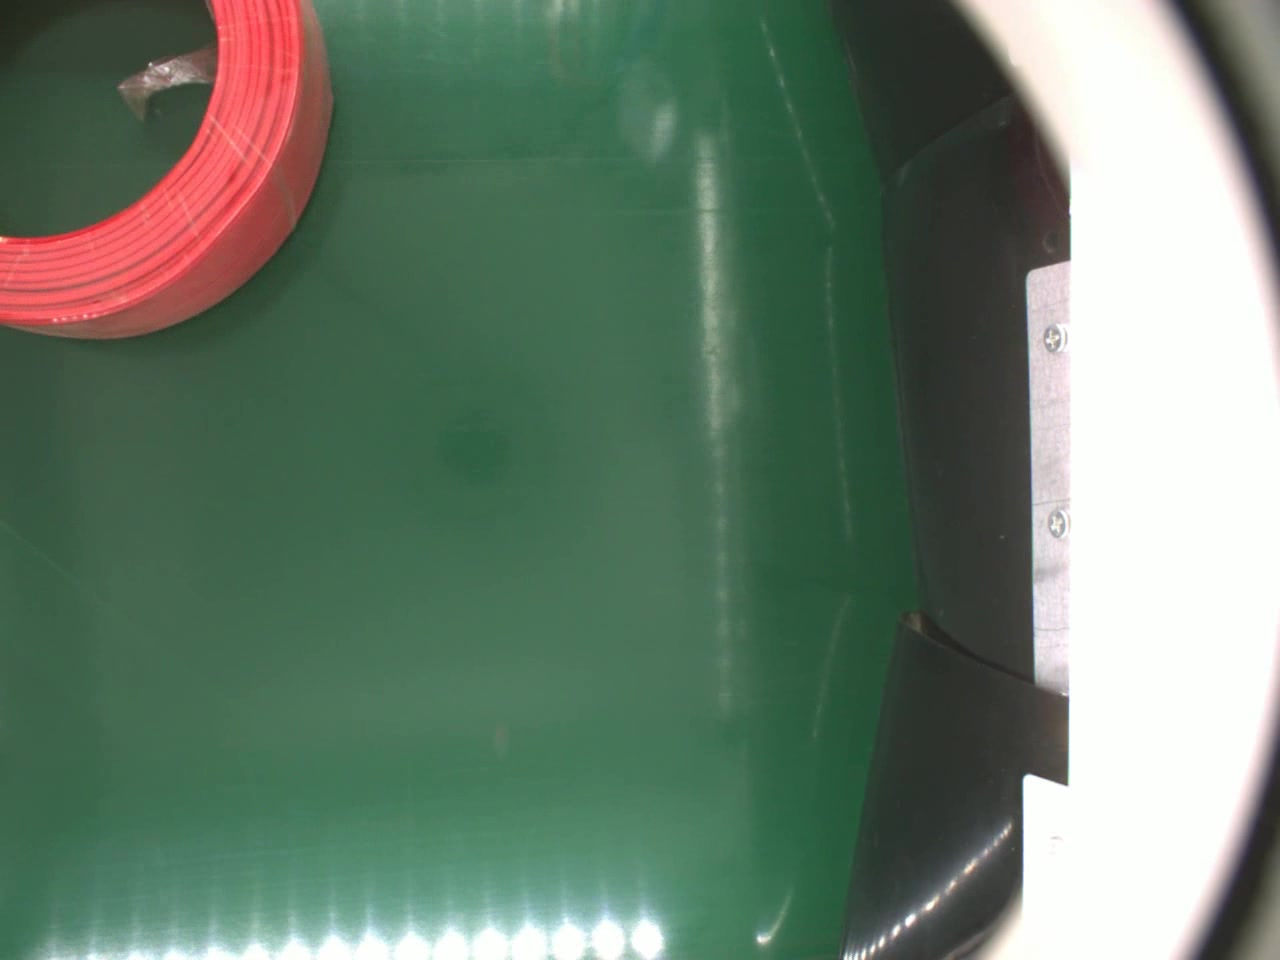red: (0, 0, 335, 342)
